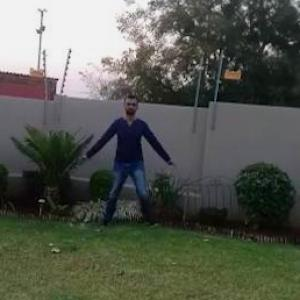land: (72, 90, 179, 232)
